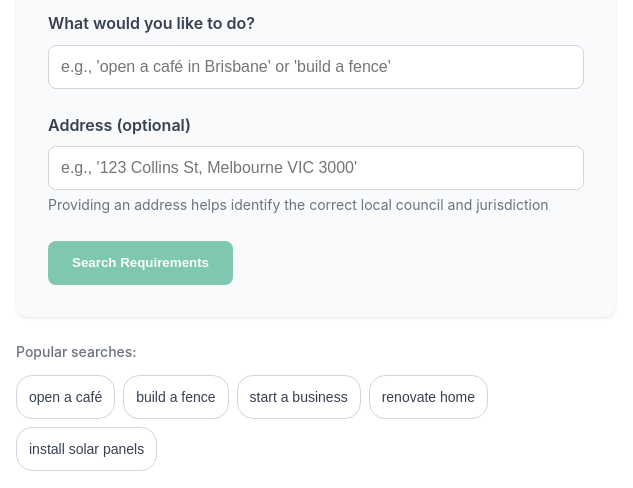
SearchForm › form interaction › should enable submit button when query has content
Type "test" into the field labelled "What would you like to do?". click: x=316, y=67
box: [48, 45, 584, 89]
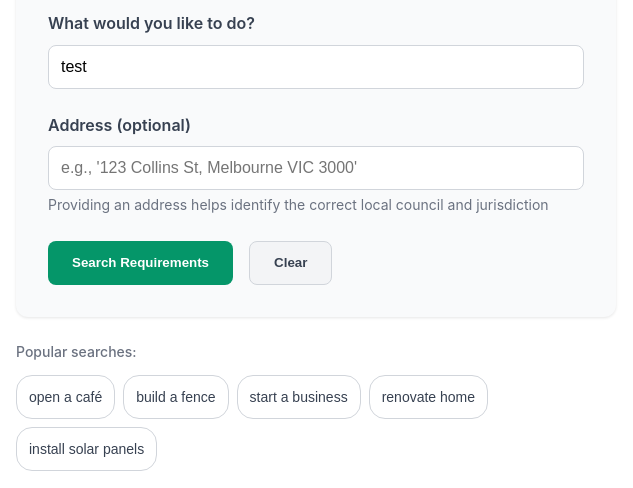
Check: the submit button is enabled, box [48, 241, 233, 285]
